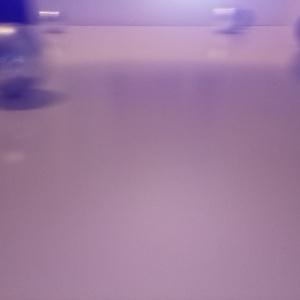alive_ball: (1, 24, 39, 95), (207, 5, 239, 32), (36, 10, 67, 31)
dead_ball: (237, 6, 253, 24)
